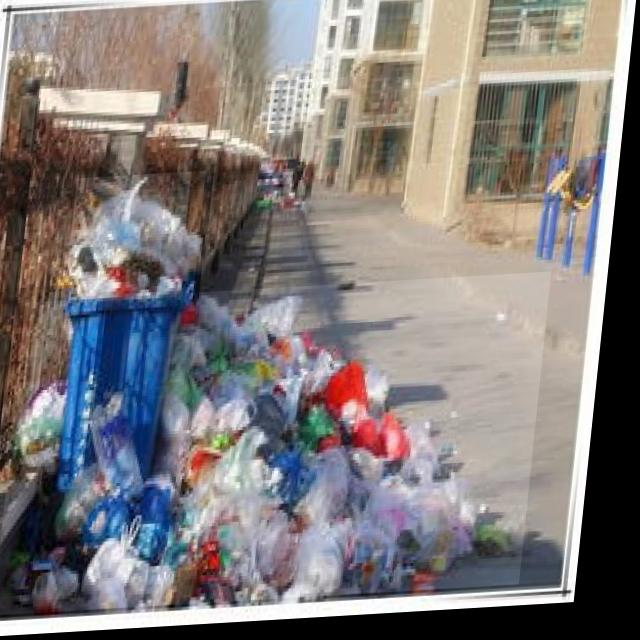garbage: (7, 279, 558, 616)
overflow: (56, 173, 210, 492)
